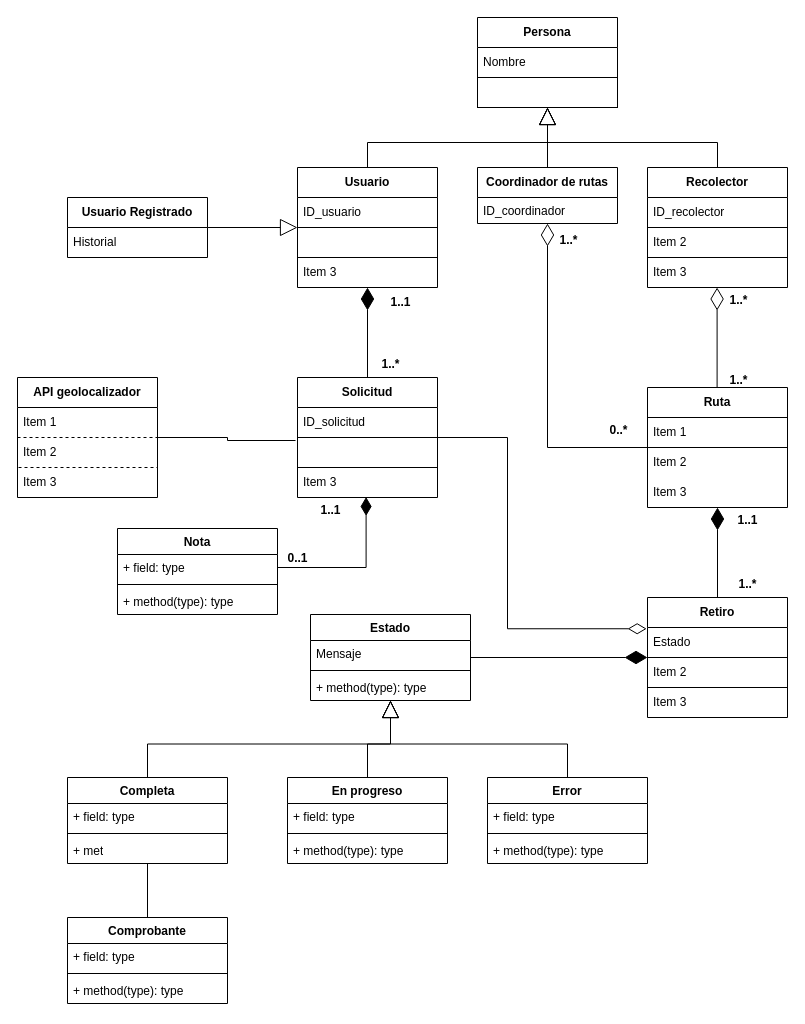
This 805x1024 diagram has some shape labels left out. The shapes that lost their labels are listed below. From the top down, each one's centre as x and y in pixels, then its label:
At [547,92]: "Rut".
At [367,242]: "Direccion".
At [367,452]: "Fecha".
